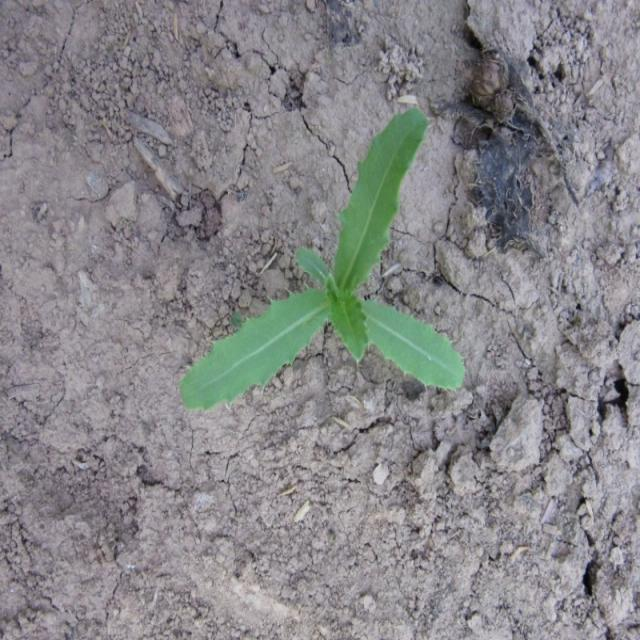cs: (175, 102, 468, 414)
